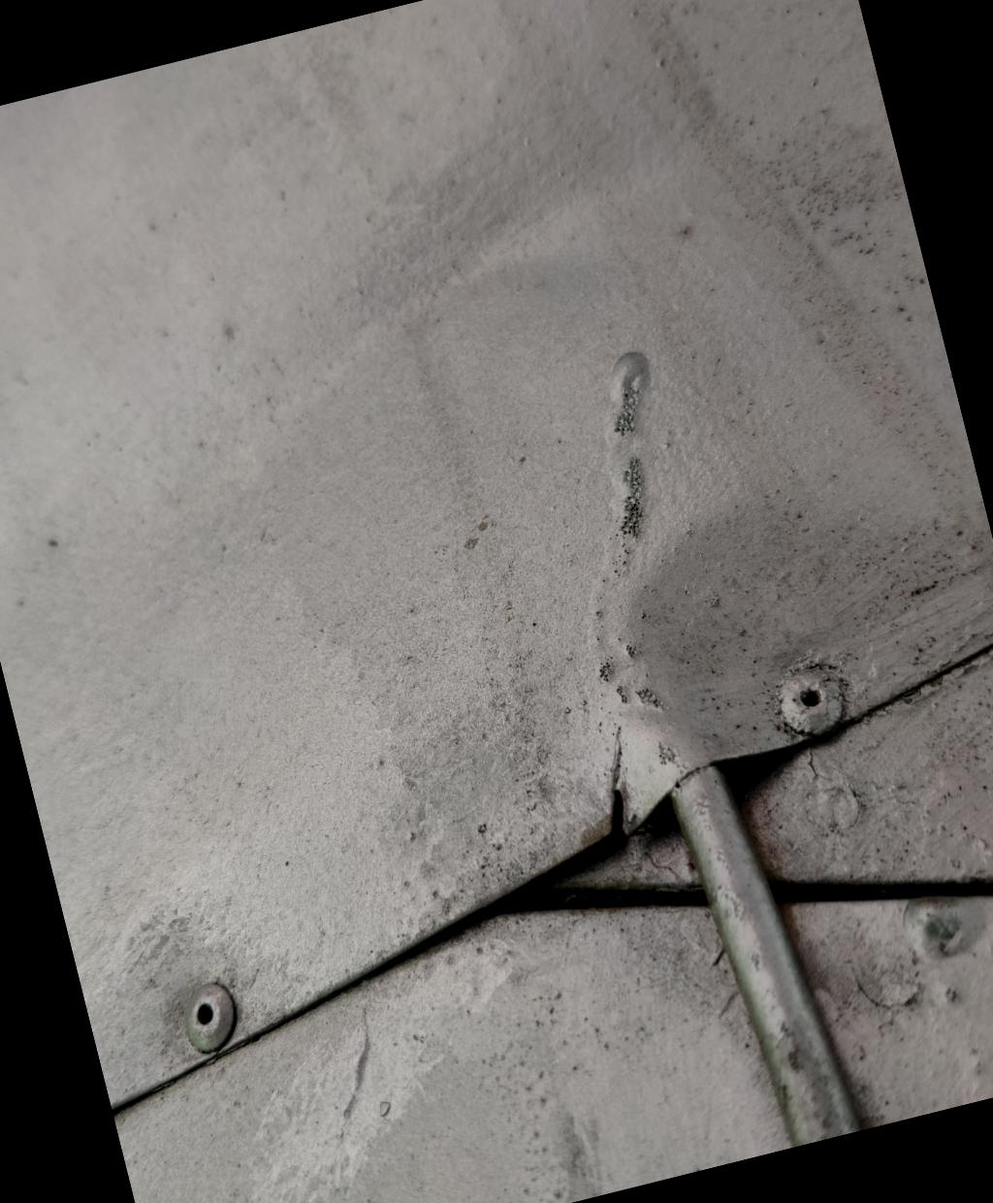crack: (556, 728, 673, 877)
